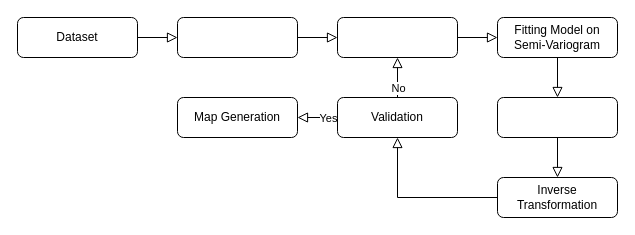
Image size: 635x235. Some labels were removed from this diagram. The shapes that lost their labels are listed below. From the top down, each one's centre as x and y in pixels, then its label:
(237,37): Z Score Transformation
(397,37): Experimental Semi-Variogram
(557,117): Kriging Estimation
